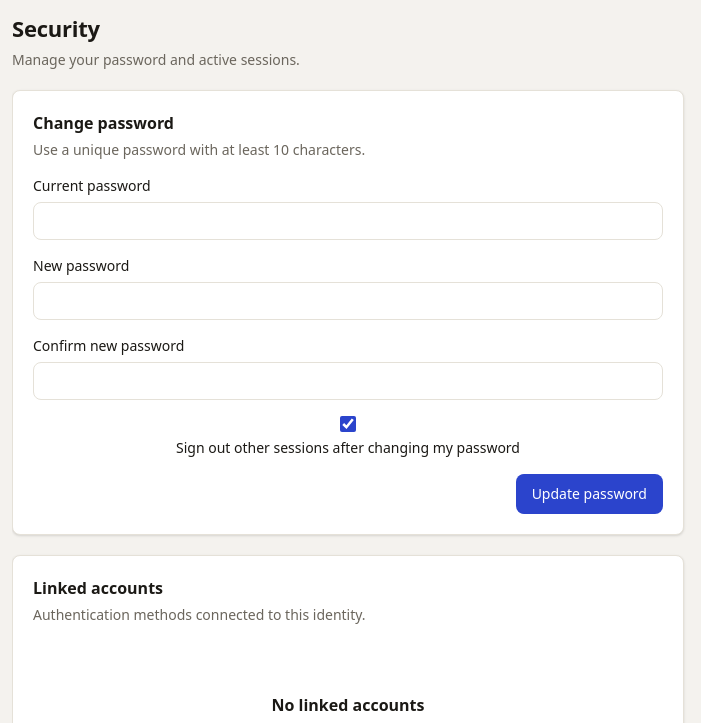
Scenario: SecurityScreen (AC3) › changes the password and requests other-session revocation
Type "current-password" into the password field labelled "Current password" at {"x": 348, "y": 221}, box [33,202,663,240]
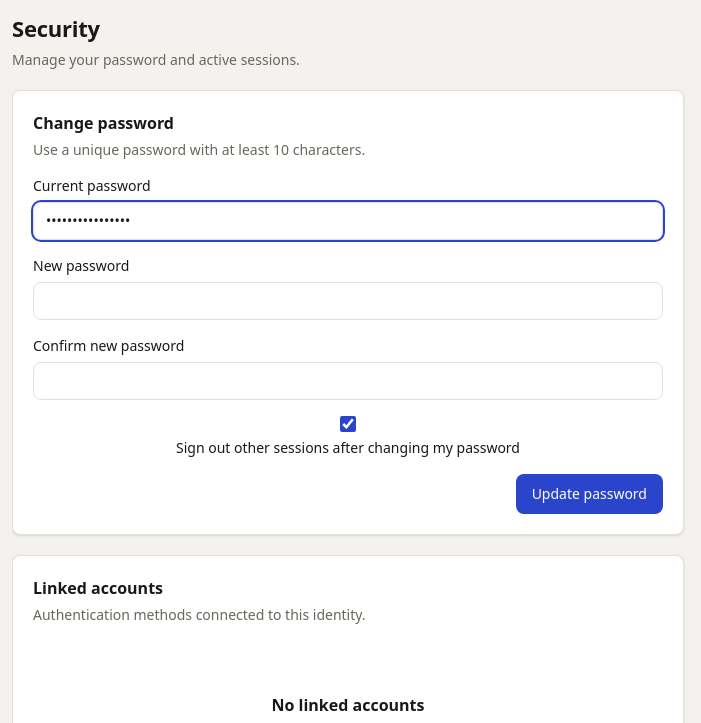
Type "replacement-password" into the password field labelled "New password" at {"x": 348, "y": 301}, box [33,282,663,320]
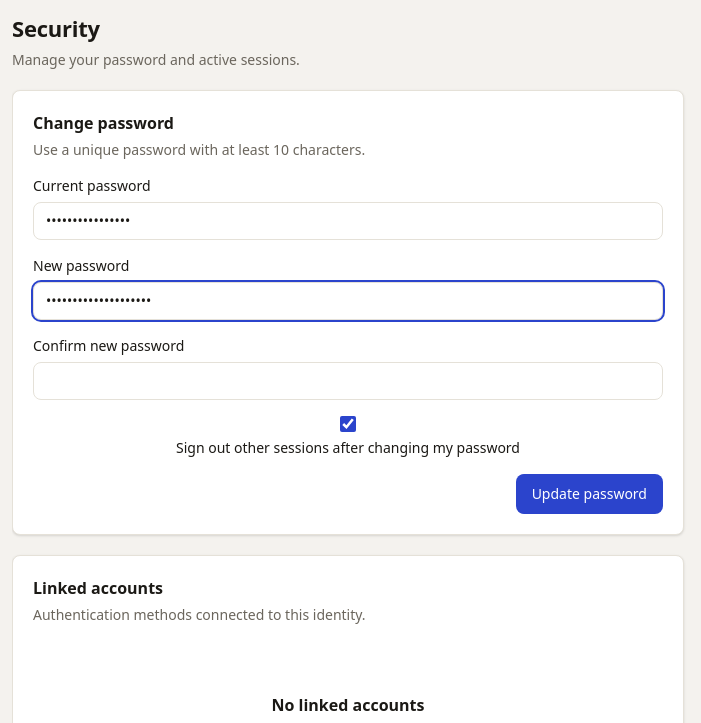
Type "replacement-password" into the password field labelled "Confirm new password" at {"x": 348, "y": 381}, box [33,362,663,400]
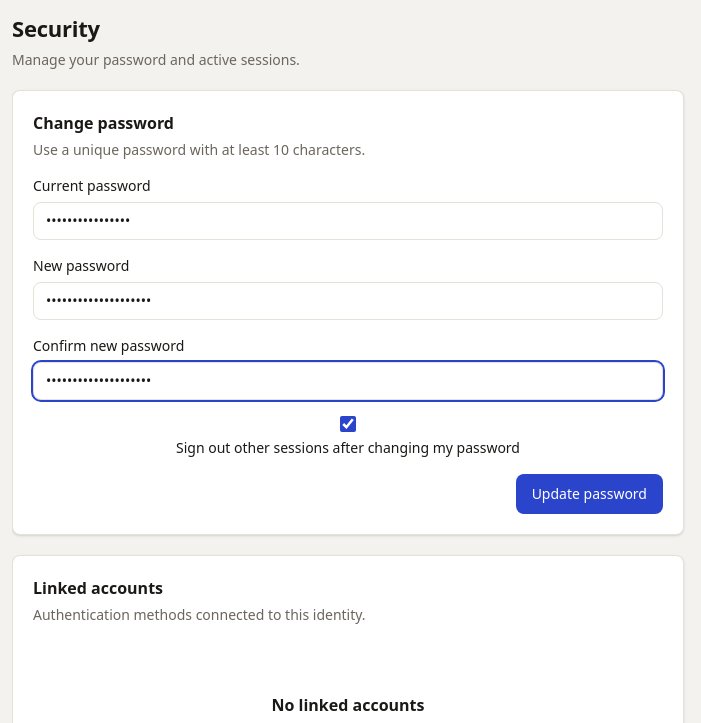
Click the button "Update password" at {"x": 589, "y": 494}, box [516,474,663,514]
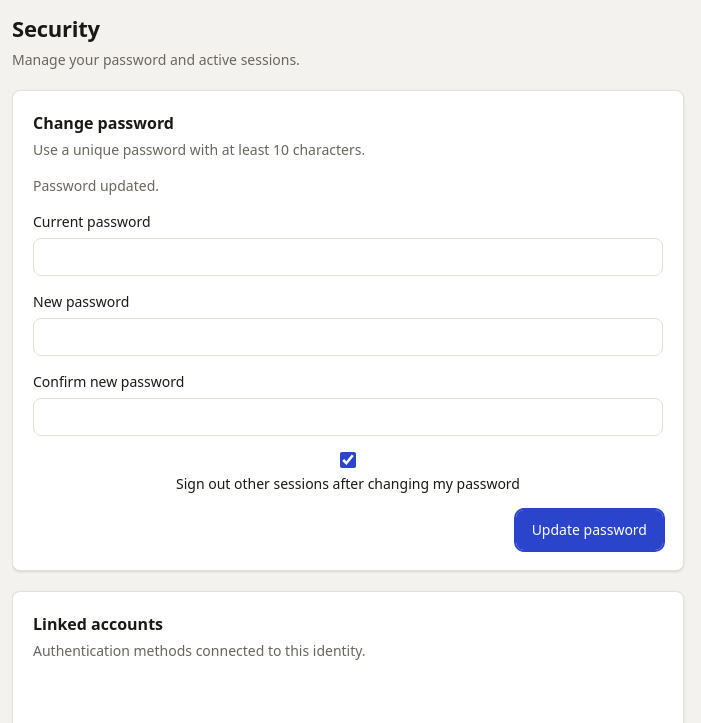
Expected: the message shows "Password updated", [33,176,159,195]
